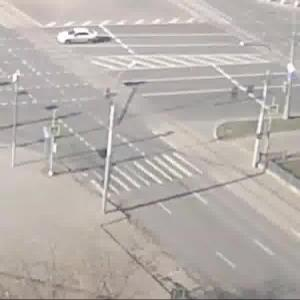car: (56, 26, 100, 50)
